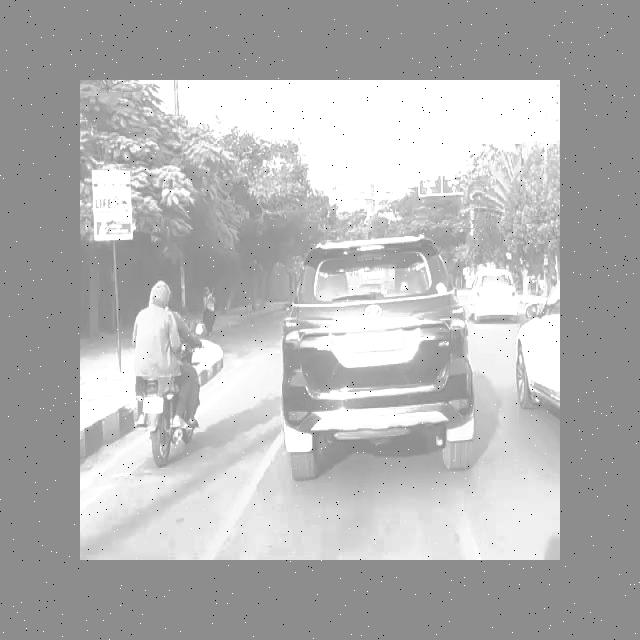Bike: (127, 278, 210, 468)
Car: (269, 231, 474, 485), (516, 288, 564, 432), (471, 264, 520, 324)
